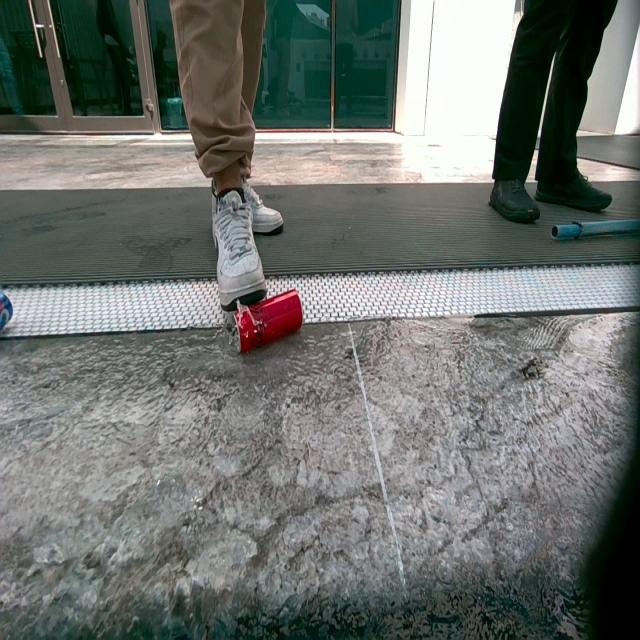Cans: (231, 290, 305, 354), (0, 284, 13, 347)
